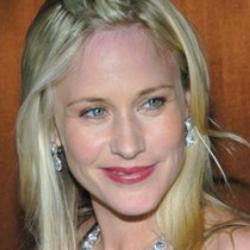face: (12, 1, 238, 247)
